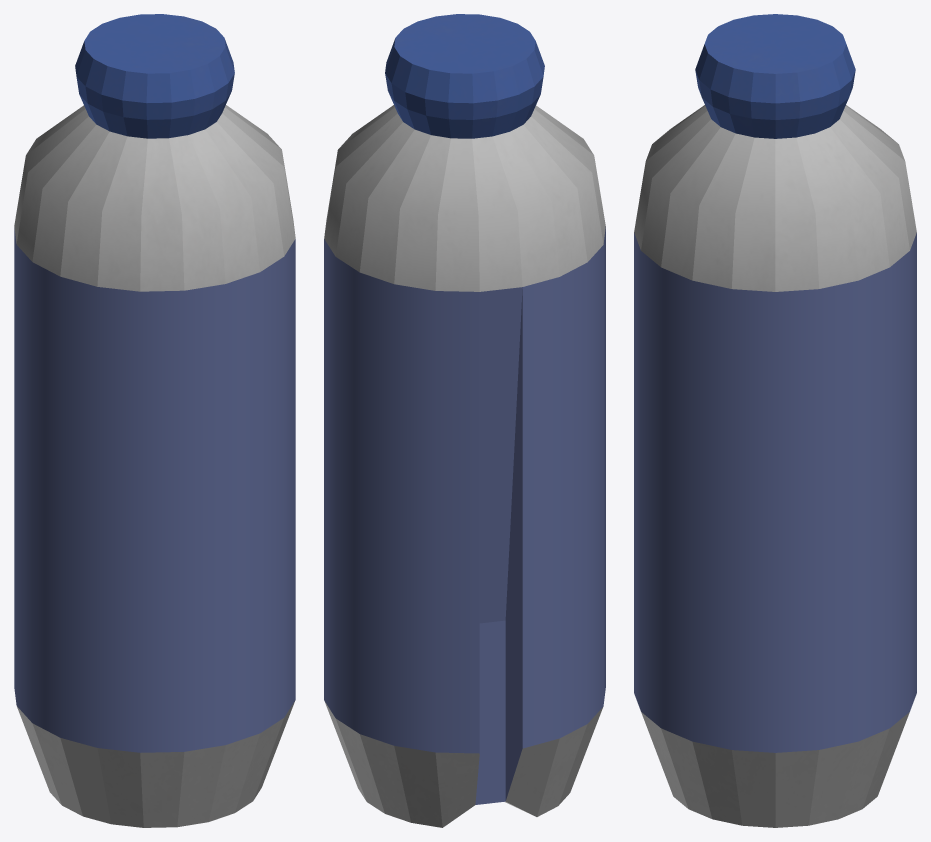
Rendered from SauceBottle_2.fbx.
The picture shows the model from 3 angles, left to right: view 1: azimuth 30°, elevation 25°; view 2: azimuth 150°, elevation 25°; view 3: azimuth 270°, elevation 25°; orthographic projection.
Parts seen in each view (by area): view 1: pCylinder75; view 2: pCylinder75; view 3: pCylinder75.
Part boxes in pixels (x1,y1,x2,y2): pCylinder75: [14, 14, 295, 827]; pCylinder75: [324, 14, 605, 827]; pCylinder75: [634, 14, 916, 827].
Size of the model in its own units: 0.094 by 0.2708 by 0.094.
